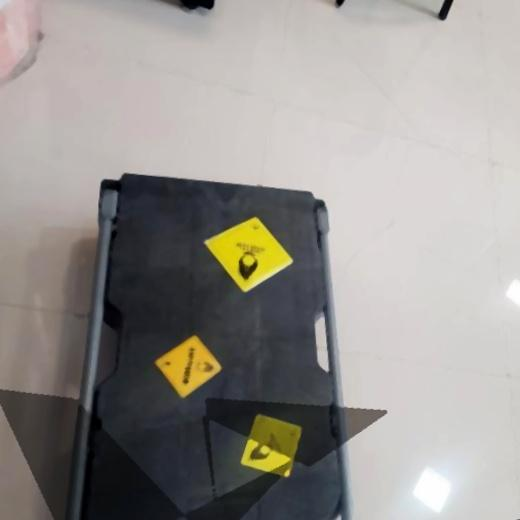oxidizer: (201, 214, 295, 294), (154, 333, 222, 400), (240, 409, 302, 482)
